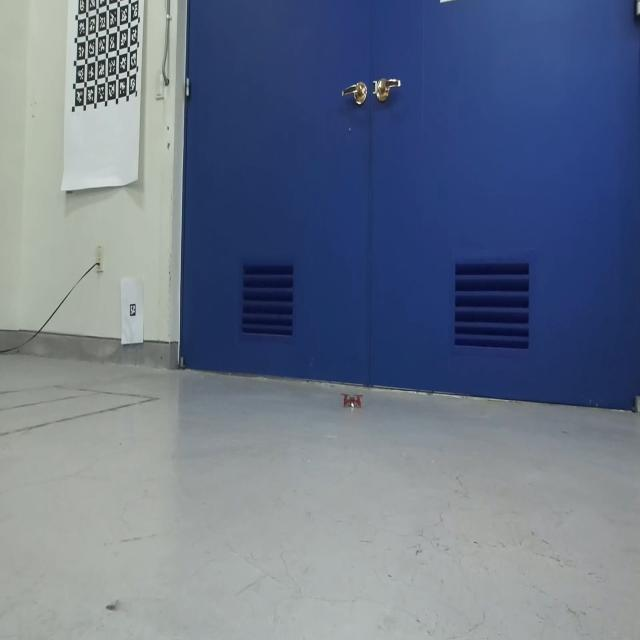crazyflie: (341, 391, 364, 410)
